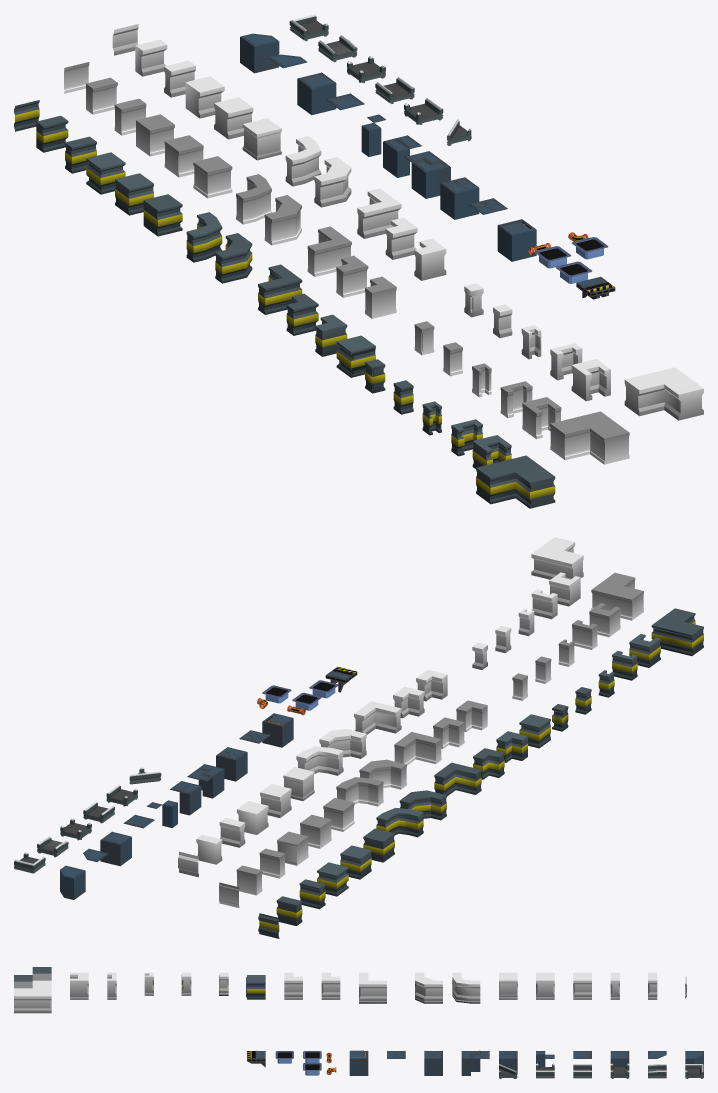
The model's file is ModuloGradient02PIVOTMID.fbx.
3 views of the same model, one above another, from view 1: azimuth 30°, elevation 25°; view 2: azimuth 150°, elevation 25°; view 3: azimuth 270°, elevation 25° (orthographic). The views are drawn at different scales.
Visible parts, largest first — view 1: ParedMitadEsqL1x002, SubParedEsqL1x002, ParedAltaEsqL1x002, ParedAltaEsqExt1x1Rect001, ParedBajaEsqExt1x1Rect001, ParedEsqExt1x1Rect001, ParedBajaEsqExt1x1Curva004, ParedAltaEsqExt1x1Curva004, ParedEsqExt1x1Curva004, ParedBaja1x1Esq001, ParedBajaEsqExt1x1Curva003, ParedAltaEsqExt1x1Curva003 (+34 smaller); view 2: SubParedEsqL1x002, ParedMitadEsqL1x002, ParedAltaEsqL1x002, ParedAltaEsqExt1x1Rect001, ParedBajaEsqExt1x1Rect001, ParedEsqExt1x1Rect001, ParedAltaEsqExt1x1Curva003, ParedBajaEsqExt1x1Curva003, ParedEsqExt1x1Curva003, ParedBajaEsqExt1x1Curva004, ParedAltaEsqExt1x1Curva004, ParedEsqExt1x1Curva004 (+33 smaller); view 3: ParedAltaEsqL1x002, ParedEsqExt1x1Rect001, ParedEsqExt1x1Curva004, ParedEsqExt1x1Curva003, PisoTubos002, ParedBajaEsquinero1x002, ParedAlta1/4Rehundido001, Pared1x12caras001, Pared1x14caras001, Pared1x1Esq001, Piso028, ParedAltaRect003 (+22 smaller).
Part boxes in pixels (x1=…): ParedMitadEsqL1x002: x1=550, y1=411, x2=629, y2=464; SubParedEsqL1x002: x1=476, y1=455, x2=555, y2=508; ParedAltaEsqL1x002: x1=624, y1=367, x2=703, y2=420; ParedAltaEsqExt1x1Rect001: x1=307, y1=226, x2=351, y2=276; ParedBajaEsqExt1x1Rect001: x1=258, y1=264, x2=302, y2=314; ParedEsqExt1x1Rect001: x1=357, y1=188, x2=401, y2=238; ParedBajaEsqExt1x1Curva004: x1=215, y1=233, x2=252, y2=283; ParedAltaEsqExt1x1Curva004: x1=264, y1=195, x2=301, y2=245; ParedEsqExt1x1Curva004: x1=314, y1=157, x2=351, y2=207; ParedBaja1x1Esq001: x1=143, y1=194, x2=182, y2=236; ParedBajaEsqExt1x1Curva003: x1=186, y1=212, x2=222, y2=262; ParedAltaEsqExt1x1Curva003: x1=236, y1=174, x2=271, y2=224; SubParedEsqL1x002: x1=651, y1=608, x2=703, y2=655; ParedMitadEsqL1x002: x1=591, y1=572, x2=643, y2=620; ParedAltaEsqL1x002: x1=531, y1=537, x2=583, y2=579; ParedAltaEsqExt1x1Rect001: x1=394, y1=732, x2=441, y2=765; ParedBajaEsqExt1x1Rect001: x1=434, y1=762, x2=481, y2=796; ParedEsqExt1x1Rect001: x1=354, y1=701, x2=401, y2=734; ParedAltaEsqExt1x1Curva003: x1=336, y1=777, x2=383, y2=806; ParedBajaEsqExt1x1Curva003: x1=376, y1=808, x2=423, y2=837; ParedEsqExt1x1Curva003: x1=296, y1=746, x2=343, y2=775; ParedBajaEsqExt1x1Curva004: x1=399, y1=790, x2=446, y2=820; ParedAltaEsqExt1x1Curva004: x1=359, y1=759, x2=406, y2=789; ParedEsqExt1x1Curva004: x1=319, y1=729, x2=366, y2=758; ParedAltaEsqL1x002: x1=14, y1=980, x2=51, y2=1013; ParedEsqExt1x1Rect001: x1=359, y1=972, x2=386, y2=1001; ParedEsqExt1x1Curva004: x1=415, y1=972, x2=442, y2=1001; ParedEsqExt1x1Curva003: x1=452, y1=972, x2=480, y2=1001; PisoTubos002: x1=349, y1=1050, x2=368, y2=1075; ParedBajaEsquinero1x002: x1=246, y1=975, x2=265, y2=999; ParedAlta1/4Rehundido001: x1=70, y1=972, x2=88, y2=997; Pared1x12caras001: x1=536, y1=972, x2=554, y2=997; Pared1x14caras001: x1=499, y1=972, x2=517, y2=997; Pared1x1Esq001: x1=573, y1=972, x2=591, y2=997; Piso028: x1=424, y1=1050, x2=442, y2=1075; ParedAltaRect003: x1=321, y1=972, x2=340, y2=997.
Bounding box in the file's own units: 538 × 118 × 1457.
6 materials, 3 textured.
